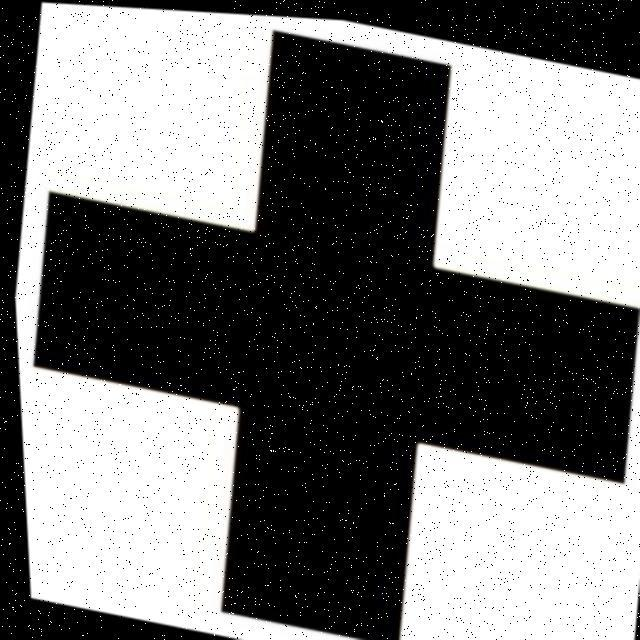cross: (51, 33, 608, 613)
